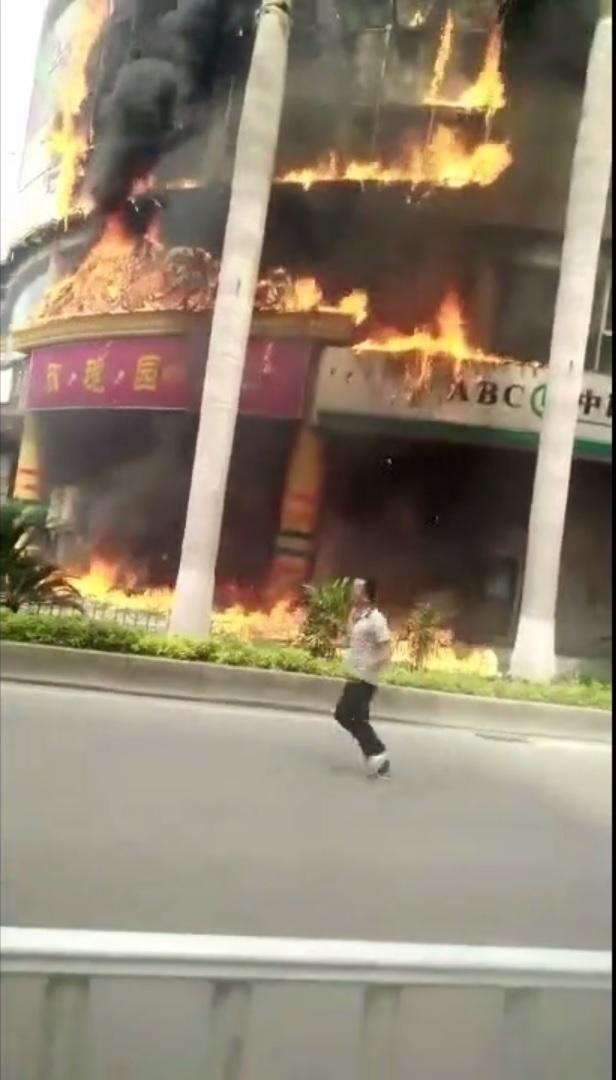fire: (272, 3, 519, 192), (256, 265, 531, 369), (15, 214, 213, 322), (39, 0, 111, 217), (375, 622, 495, 677), (55, 555, 177, 609), (212, 590, 305, 638)
